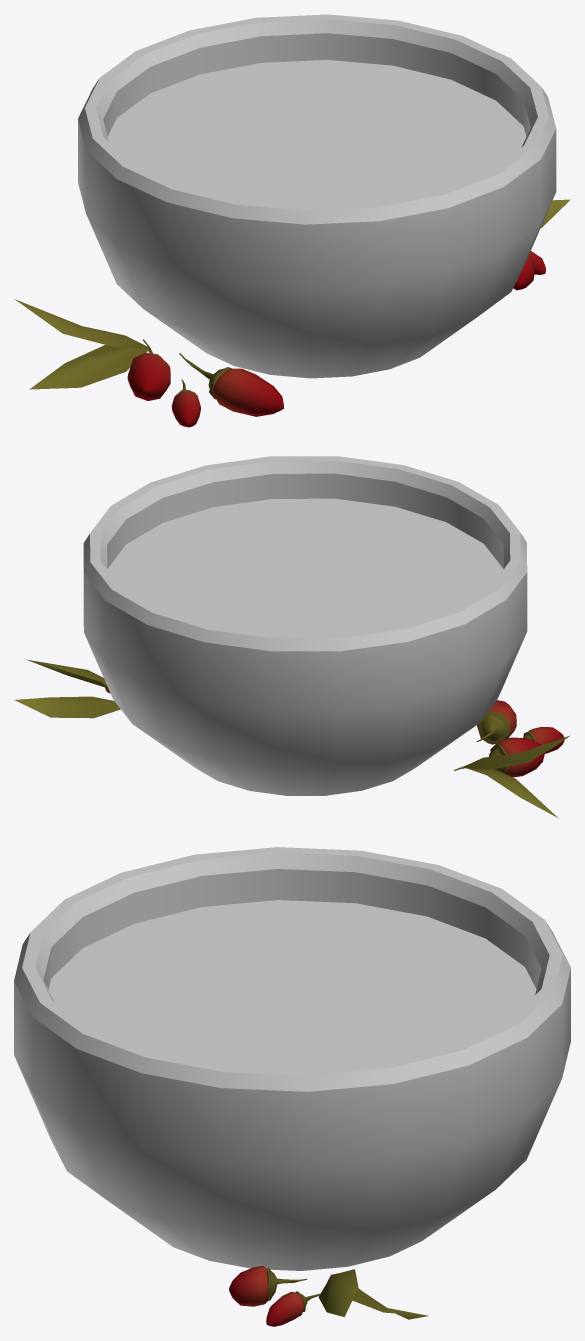
File: SpicySoup01.fbx
3 renders of one model, top to bottom at view 1: azimuth 30°, elevation 25°; view 2: azimuth 150°, elevation 25°; view 3: azimuth 270°, elevation 25°, orthographic. The views are drawn at different scales.
Parts seen in each view (by area): view 1: SoupBowl, pepper01, leaf02, pepper02, leaf01, pepper03; view 2: SoupBowl, leaf04, pepper01, pepper02, leaf01, leaf02, leaf03, pepper03; view 3: SoupBowl, pepper04, leaf03, pepper05.
Boxes of the visible parts, <box> form: SoupBowl: <box>78,14,556,378</box>; pepper01: <box>179,353,284,416</box>; leaf02: <box>29,345,148,389</box>; pepper02: <box>127,339,170,400</box>; leaf01: <box>15,299,150,348</box>; pepper03: <box>171,379,200,427</box>; SoupBowl: <box>83,456,527,795</box>; leaf04: <box>14,696,120,718</box>; pepper01: <box>476,700,516,744</box>; pepper02: <box>454,737,545,777</box>; leaf01: <box>464,735,570,770</box>; leaf02: <box>465,767,558,818</box>; leaf03: <box>26,659,107,688</box>; pepper03: <box>523,726,564,753</box>; SoupBowl: <box>14,847,570,1270</box>; pepper04: <box>229,1265,307,1306</box>; leaf03: <box>318,1269,358,1317</box>; pepper05: <box>266,1291,319,1326</box>.
Size of the model in its own units: 51.13 by 18.75 by 37.17.
